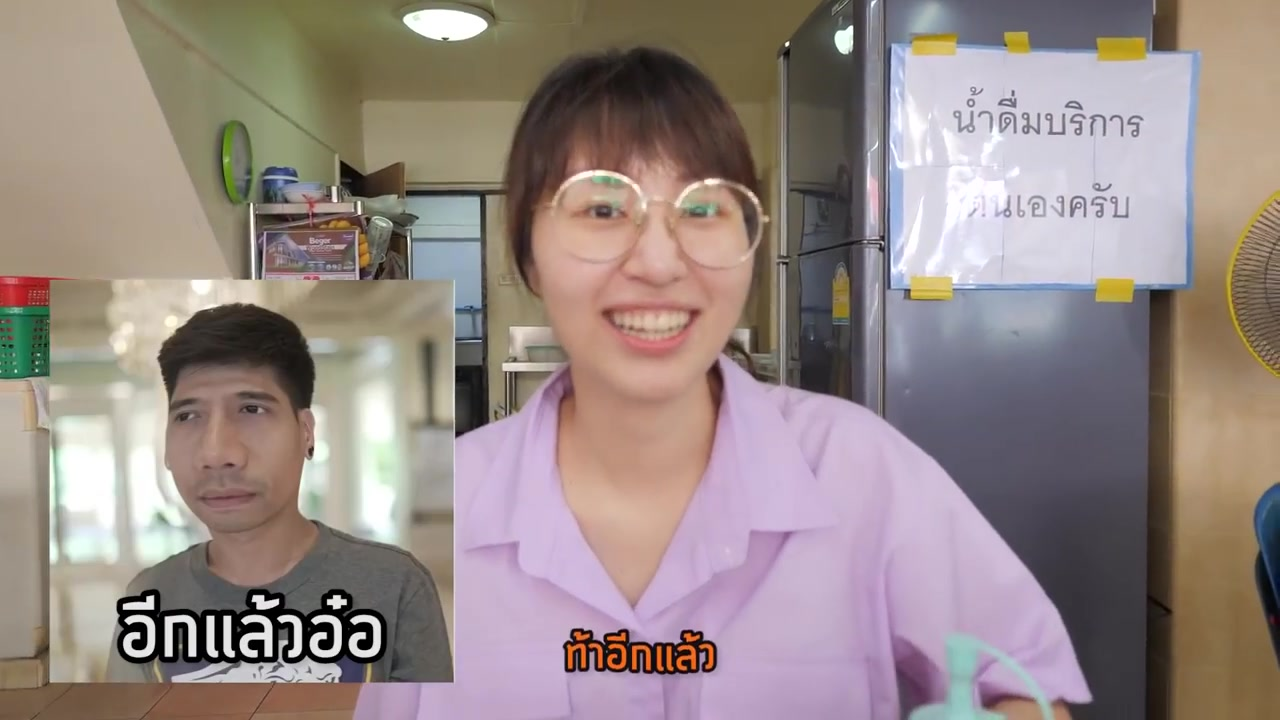text-label: (114, 587, 391, 669), (948, 77, 1149, 146), (558, 621, 718, 678)
